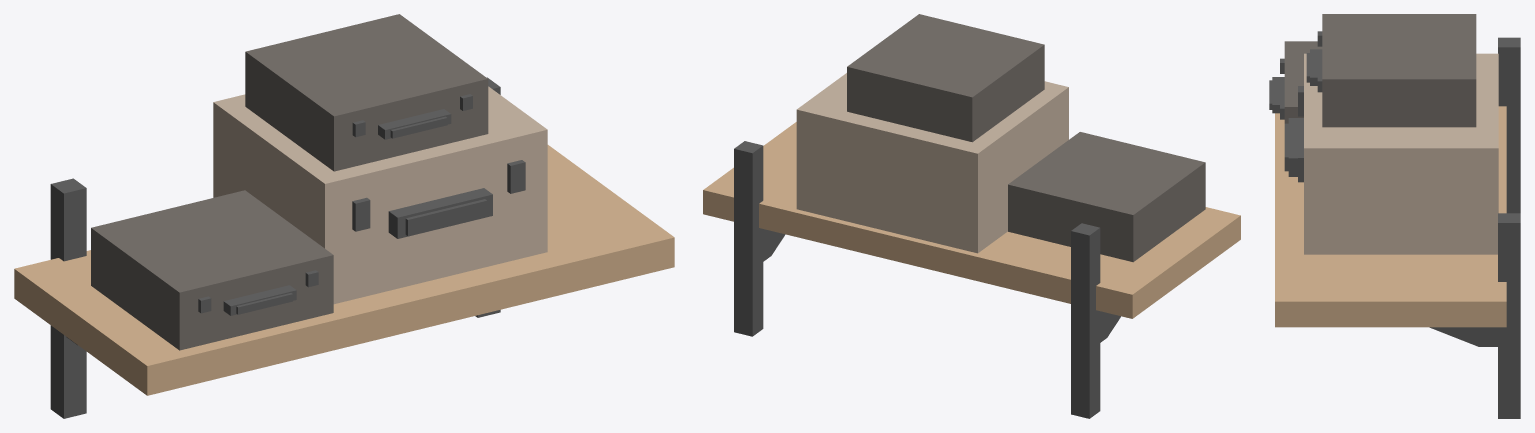
File: sonban.fbx
3 views of the same model, side by side, from view 1: azimuth 30°, elevation 25°; view 2: azimuth 150°, elevation 25°; view 3: azimuth 270°, elevation 25° (orthographic). The views are drawn at different scales.
Visible parts, largest first — view 1: pCube6, pCube10, pCube11, pCube12; view 2: pCube6, pCube10, pCube12, pCube11; view 3: pCube6, pCube10, pCube12, pCube11.
Boxes of the visible parts, x1,y1,x2,y2 form: pCube6: (14, 77, 674, 418); pCube10: (213, 86, 547, 304); pCube11: (91, 190, 333, 350); pCube12: (245, 14, 488, 171); pCube6: (703, 122, 1240, 418); pCube10: (796, 73, 1068, 253); pCube12: (847, 14, 1044, 142); pCube11: (1008, 132, 1205, 262); pCube6: (1275, 37, 1520, 418); pCube10: (1284, 53, 1498, 254); pCube12: (1306, 14, 1476, 127); pCube11: (1269, 41, 1322, 123).
Size of the model in its own units: 15.11 by 9.17 by 7.17.
